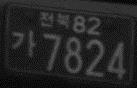2: (85, 38, 105, 78), (86, 16, 102, 36)
4: (107, 42, 127, 79)
7: (41, 32, 61, 71)
8: (64, 36, 83, 74), (72, 14, 86, 33)
가: (10, 29, 36, 59)
전북_O: (39, 10, 70, 30)
